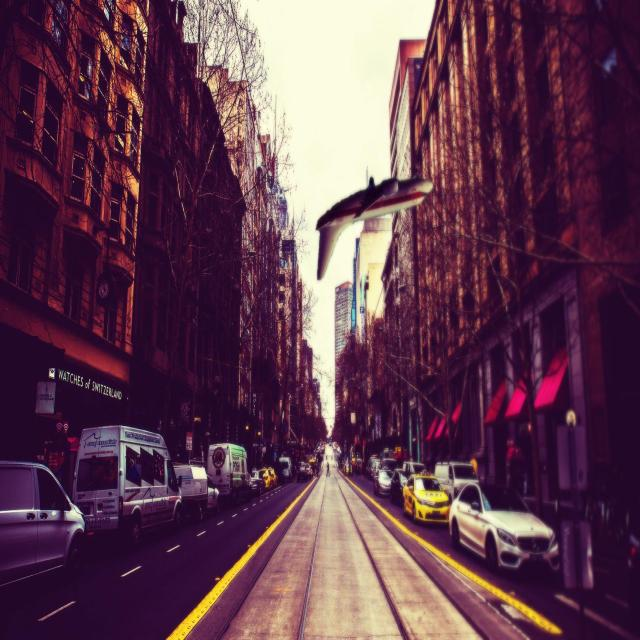airplane: (315, 170, 434, 280)
